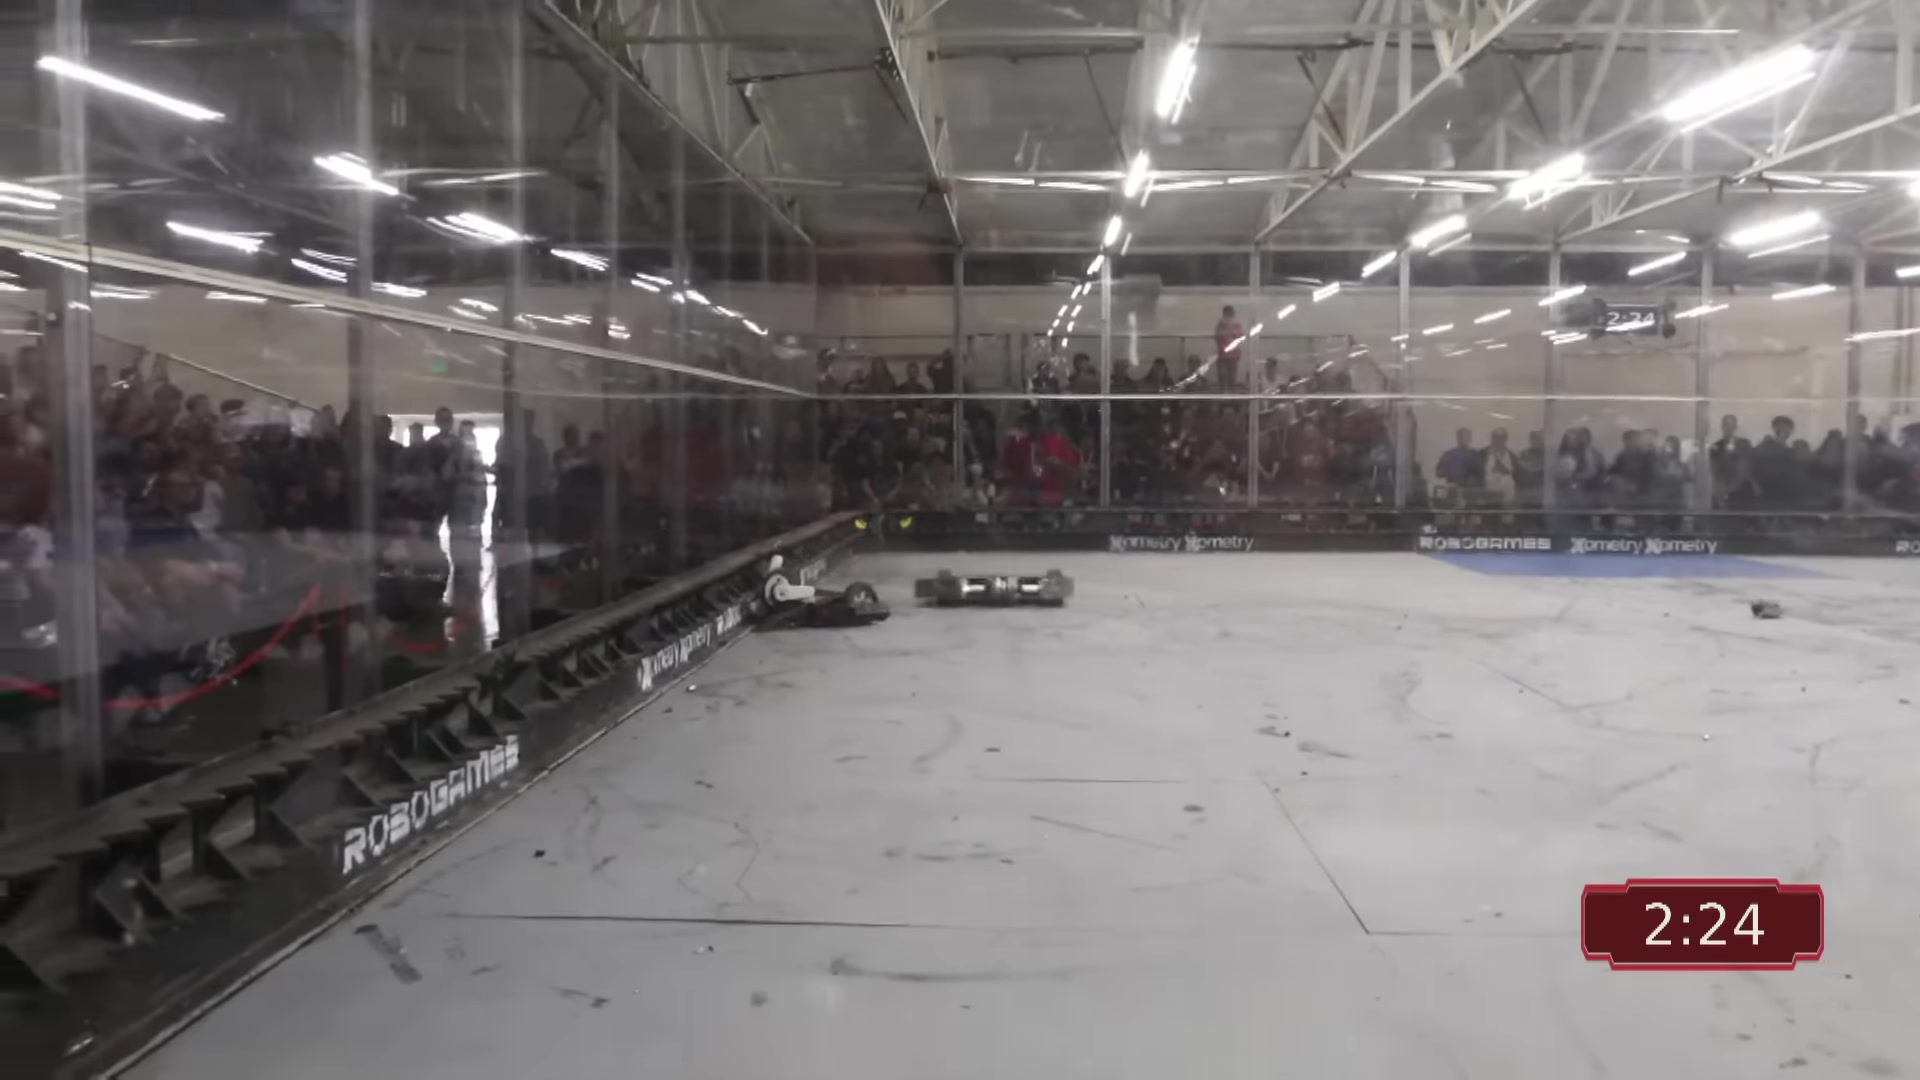combatbot: (749, 562, 886, 630), (915, 566, 1071, 608)
debris: (1753, 595, 1780, 617)
